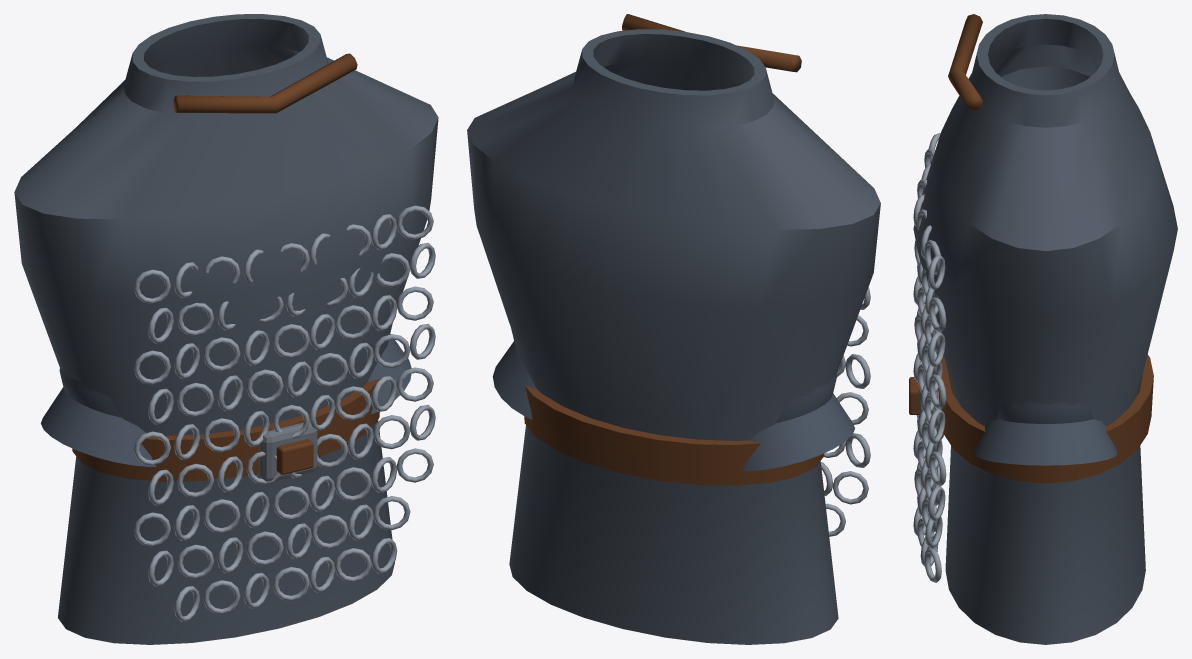
Rendered from armor_chain.fbx.
The picture shows the model from 3 angles, left to right: view 1: azimuth 30°, elevation 25°; view 2: azimuth 150°, elevation 25°; view 3: azimuth 270°, elevation 25°; orthographic projection. The views are drawn at different scales.
Parts seen in each view (by area): view 1: armor_chain; view 2: armor_chain; view 3: armor_chain.
Boxes of the visible parts, x1,y1,x2,y2 form: armor_chain: (14, 14, 438, 644); armor_chain: (467, 14, 880, 644); armor_chain: (909, 14, 1177, 644).
Size of the model in its own units: 0.56 by 0.7109 by 0.3355.
